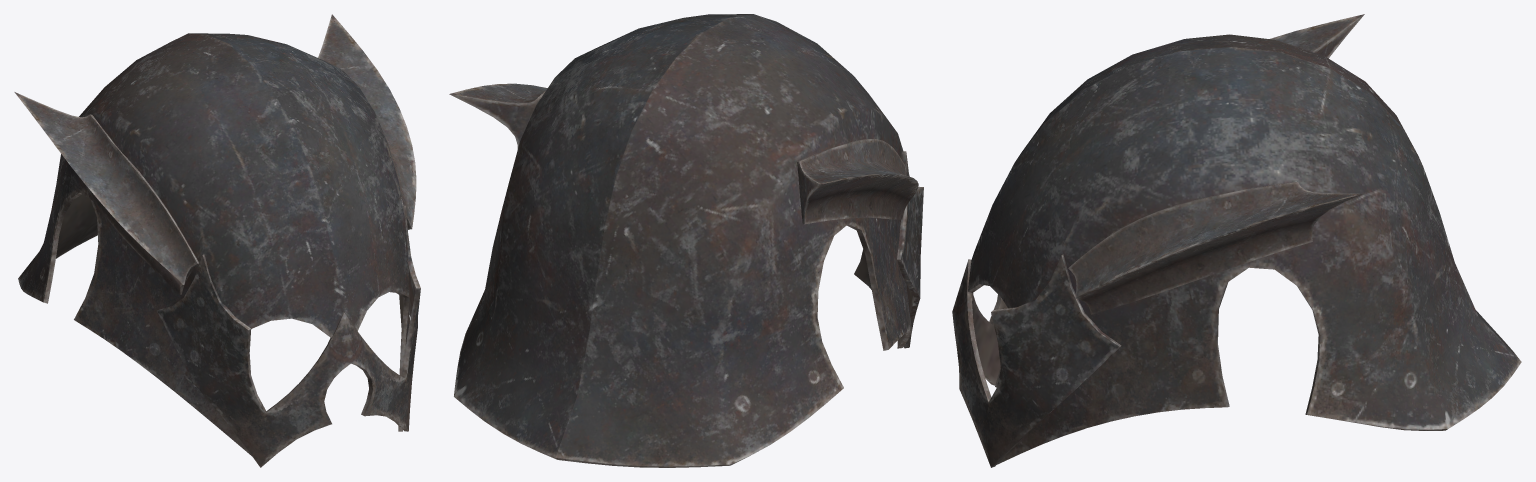
Rendered from sk_dg_uruk_helmet_heavy_a.fbx.
3 views of the same model, side by side, from view 1: azimuth 30°, elevation 25°; view 2: azimuth 150°, elevation 25°; view 3: azimuth 270°, elevation 25° (orthographic). The views are drawn at different scales.
Visible parts, largest first — view 1: sk_dg_uruk_helmet_heavy_a; view 2: sk_dg_uruk_helmet_heavy_a; view 3: sk_dg_uruk_helmet_heavy_a.
Part boxes in pixels (x1=…): sk_dg_uruk_helmet_heavy_a: x1=14, y1=14, x2=420, y2=467; sk_dg_uruk_helmet_heavy_a: x1=449, y1=14, x2=923, y2=467; sk_dg_uruk_helmet_heavy_a: x1=952, y1=14, x2=1521, y2=467.
Size of the model in its own units: 0.2328 by 0.3097 by 0.2277.
1 material, 1 textured.
